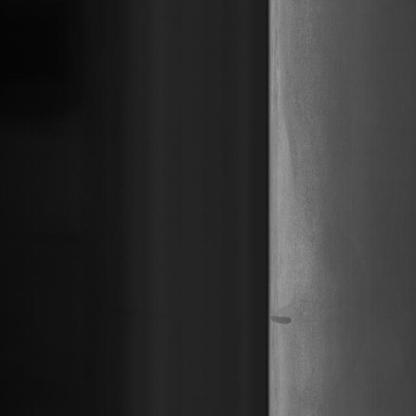oil_spot: (269, 308, 293, 336)
